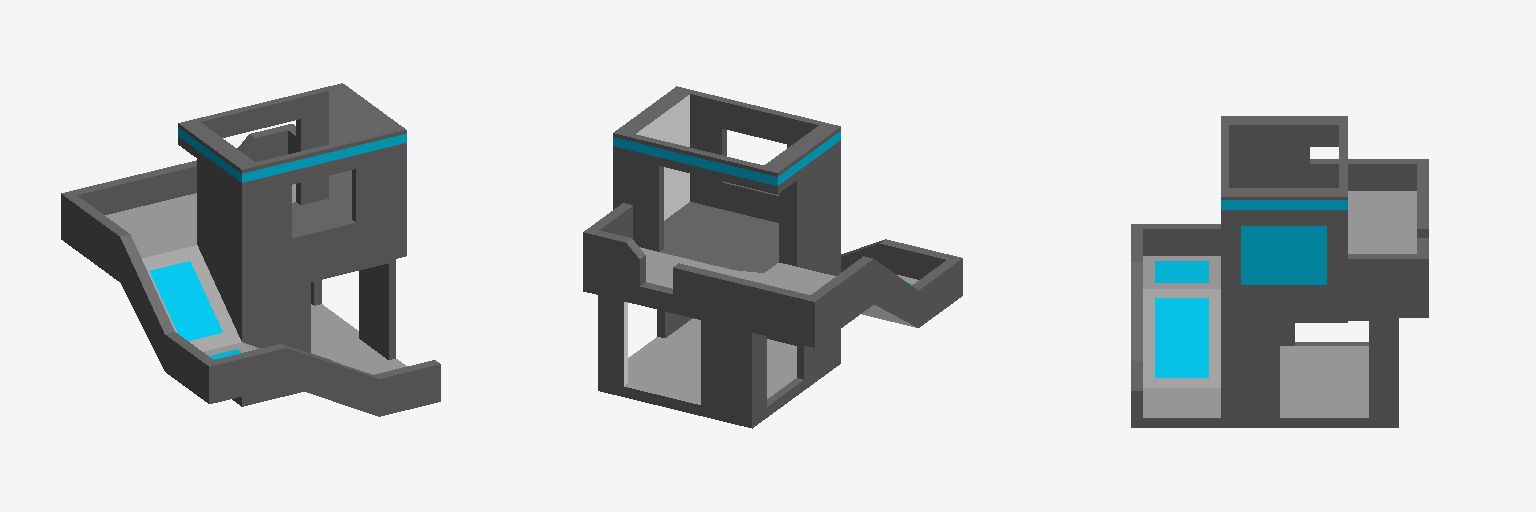
Rendered from tower-2-storeys.obj.
The picture shows the model from 3 angles: view 1: azimuth 30°, elevation 25°; view 2: azimuth 150°, elevation 25°; view 3: azimuth 270°, elevation 25°; orthographic projection.
Visible parts, largest first — view 1: Mesh1 Tower__2_Stories1 Model; view 2: Mesh1 Tower__2_Stories1 Model; view 3: Mesh1 Tower__2_Stories1 Model.
Boxes of the visible parts, x1,y1,x2,y2 form: Mesh1 Tower__2_Stories1 Model: [61, 83, 440, 416]; Mesh1 Tower__2_Stories1 Model: [583, 86, 962, 428]; Mesh1 Tower__2_Stories1 Model: [1131, 116, 1428, 427].
Size of the model in its own units: 4.7 by 4.4 by 5.